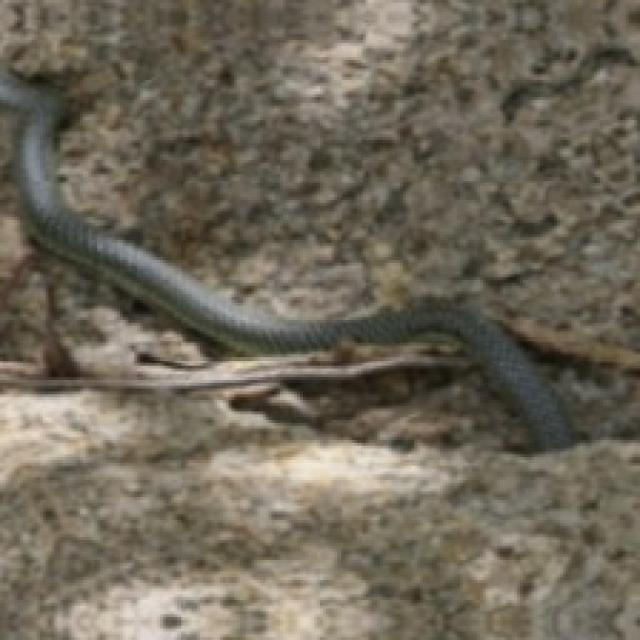paradise tree snake: (0, 66, 574, 446), (0, 69, 571, 446)
